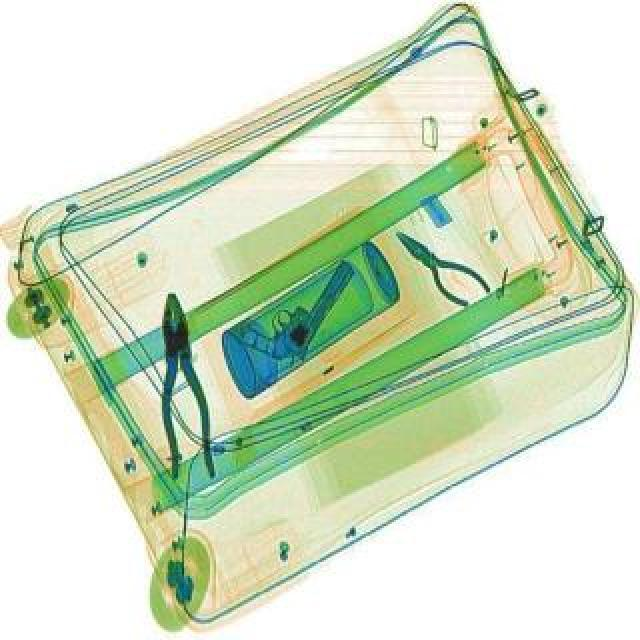gun: (234, 236, 360, 382)
wrench: (146, 292, 216, 484), (382, 220, 494, 320)
